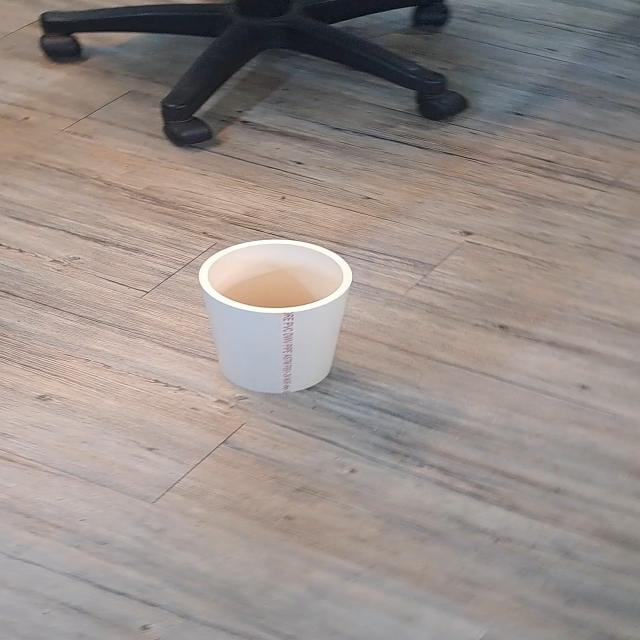CORAL: (196, 235, 357, 408)
